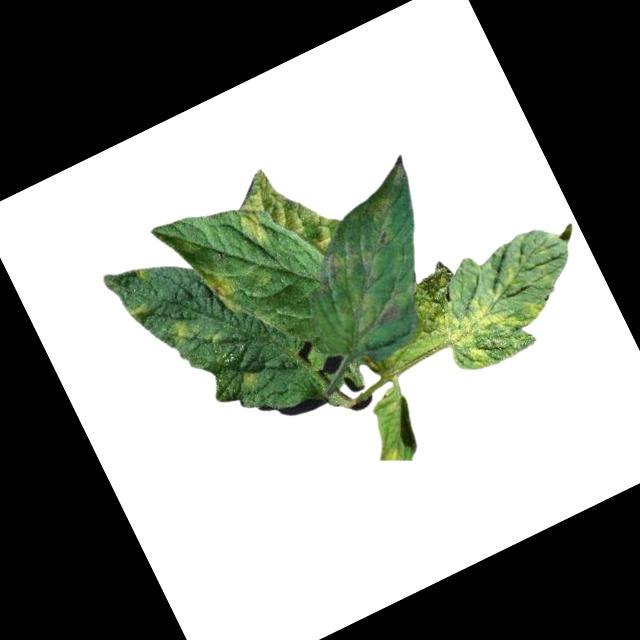Leaf_Mold: (228, 149, 351, 279), (304, 227, 421, 350), (427, 264, 551, 378), (328, 152, 424, 239), (197, 261, 246, 321), (230, 205, 273, 250), (164, 315, 197, 348), (235, 364, 263, 391)
